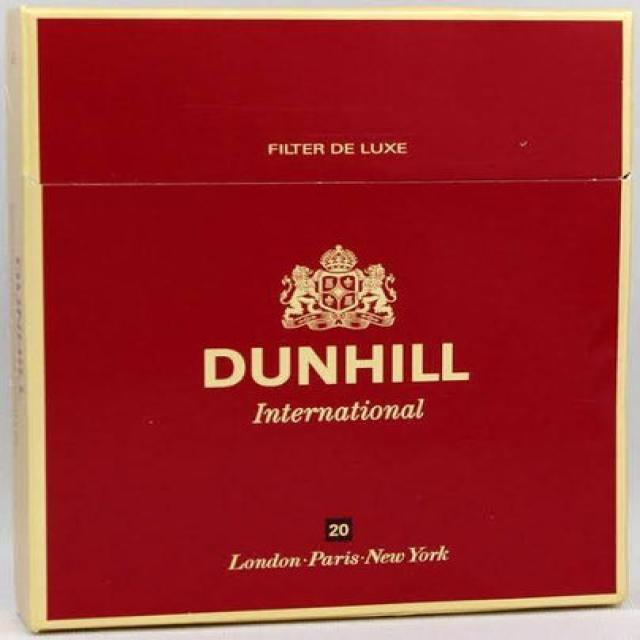dunhill: (25, 9, 630, 628)
